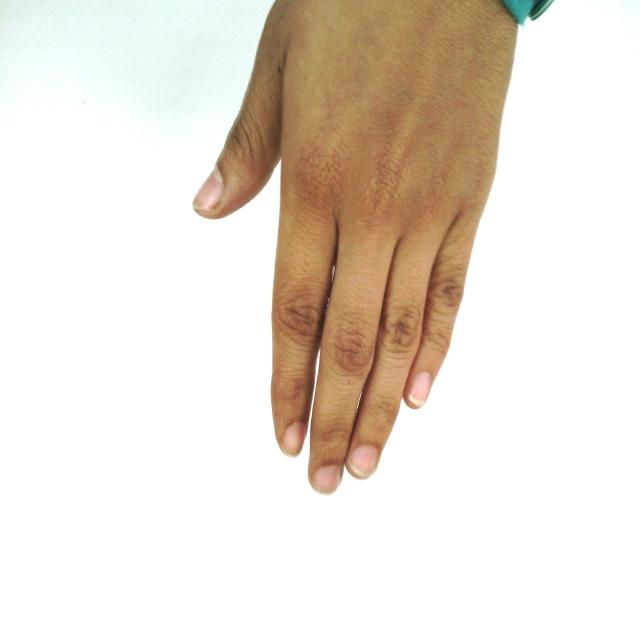hand: (186, 13, 514, 499)
